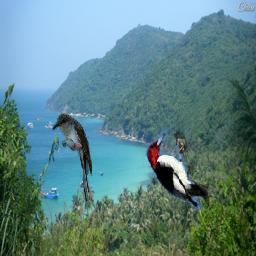Cuckoo: (52, 113, 92, 201)
Woodpecker: (140, 128, 211, 213)
